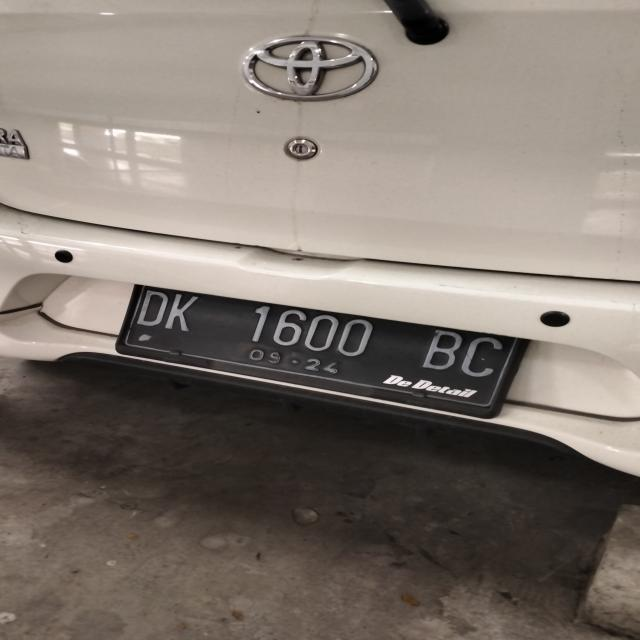0: (303, 312, 339, 351), (336, 318, 374, 354)
1: (243, 301, 273, 347)
6: (268, 305, 310, 348)
B: (420, 326, 466, 376)
C: (452, 332, 504, 386)
D: (135, 282, 170, 332)
K: (163, 288, 198, 332)
